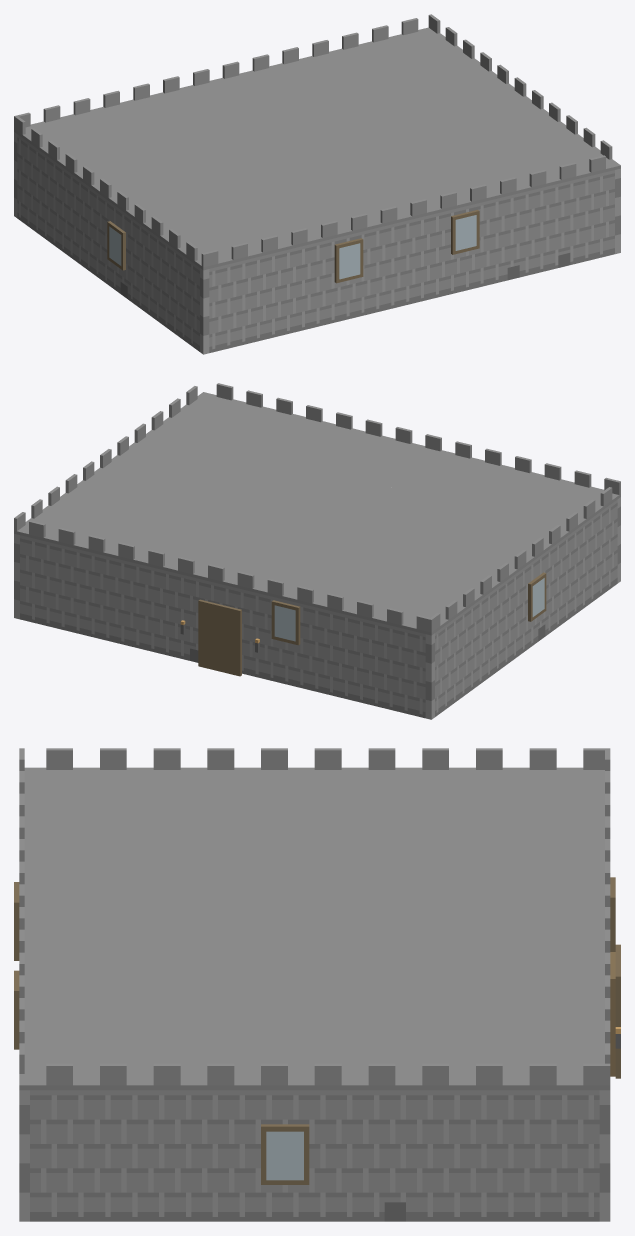
File: arena_combate_02.glb
The picture shows the model from 3 angles, top to bottom: view 1: azimuth 30°, elevation 25°; view 2: azimuth 150°, elevation 25°; view 3: azimuth 270°, elevation 25°; orthographic projection. The views are drawn at different scales.
Parts seen in each view (by area): view 1: arena_combate_02; view 2: arena_combate_02; view 3: arena_combate_02.
Boxes of the visible parts, bbox=[...] form: arena_combate_02: bbox=[14, 14, 620, 354]; arena_combate_02: bbox=[14, 383, 620, 719]; arena_combate_02: bbox=[14, 748, 620, 1221].
Size of the model in its own units: 14.2 by 3.2 by 11.3.
